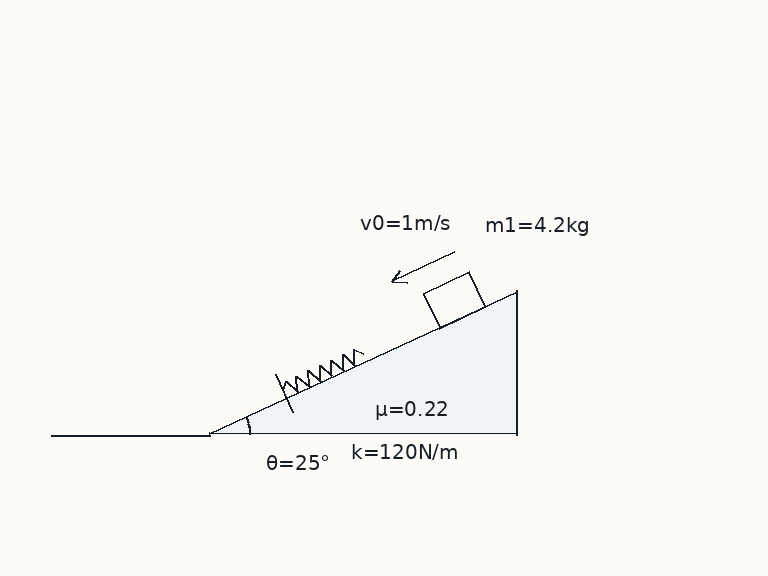block: (421, 270, 487, 329)
ramp: (208, 289, 519, 436)
spring: (281, 347, 365, 393)
